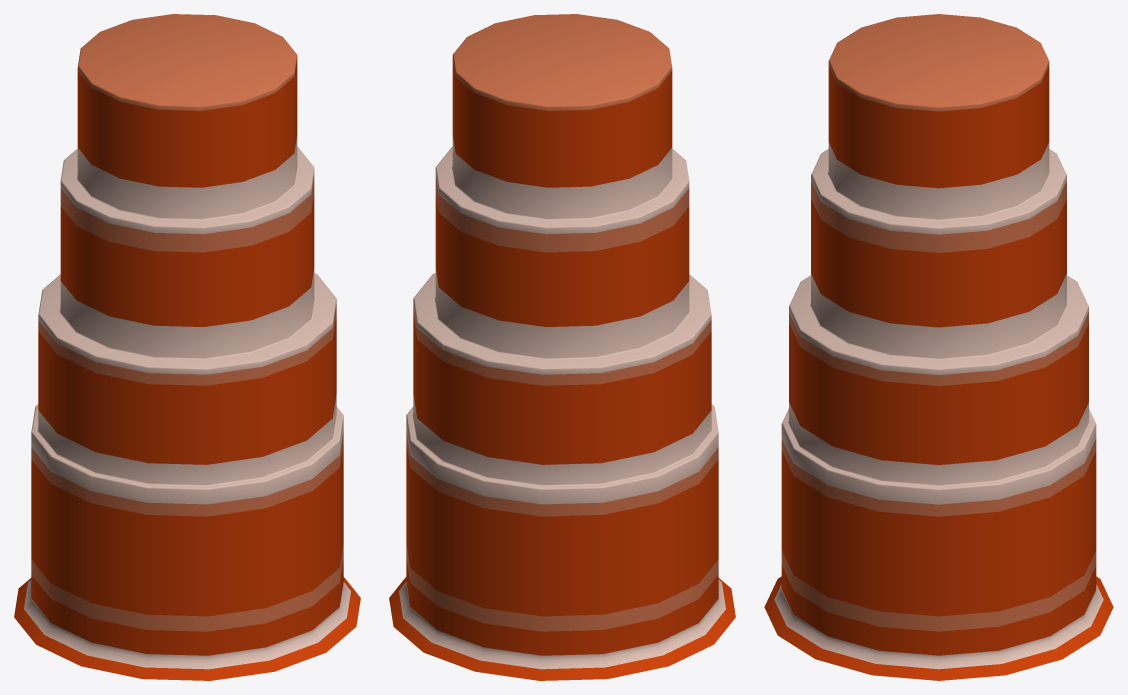
Rendered from CONO.fbx.
The picture shows the model from 3 angles, left to right: view 1: azimuth 30°, elevation 25°; view 2: azimuth 150°, elevation 25°; view 3: azimuth 270°, elevation 25°; orthographic projection.
Visible parts, largest first — view 1: CONO_LOD0; view 2: CONO_LOD0; view 3: CONO_LOD0.
Boxes of the visible parts, x1,y1,x2,y2 form: CONO_LOD0: (14,14,360,680); CONO_LOD0: (389,14,735,680); CONO_LOD0: (764,14,1113,680).
Size of what is drawn, in the model's own units: 53.99 by 93.29 by 53.99.
